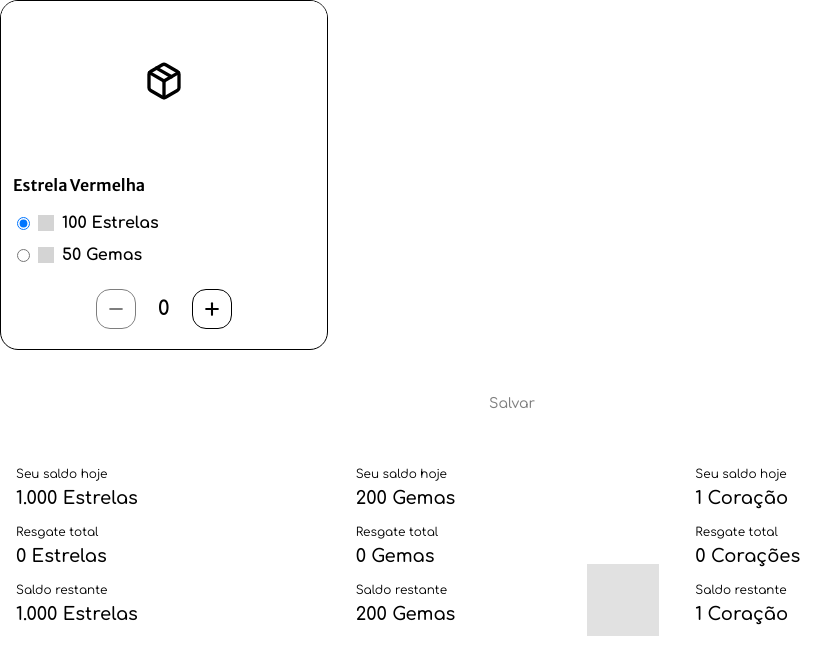
Test case: CartEditor › keeps save disabled until a qty changes and edits the selected currency
The image size is (817, 653).
Check: the button "Salvar" is disabled, box 440,382 -> 584,426
Click the button named "Aumentar valor".
click(212, 309)  # box 192,289 -> 232,329
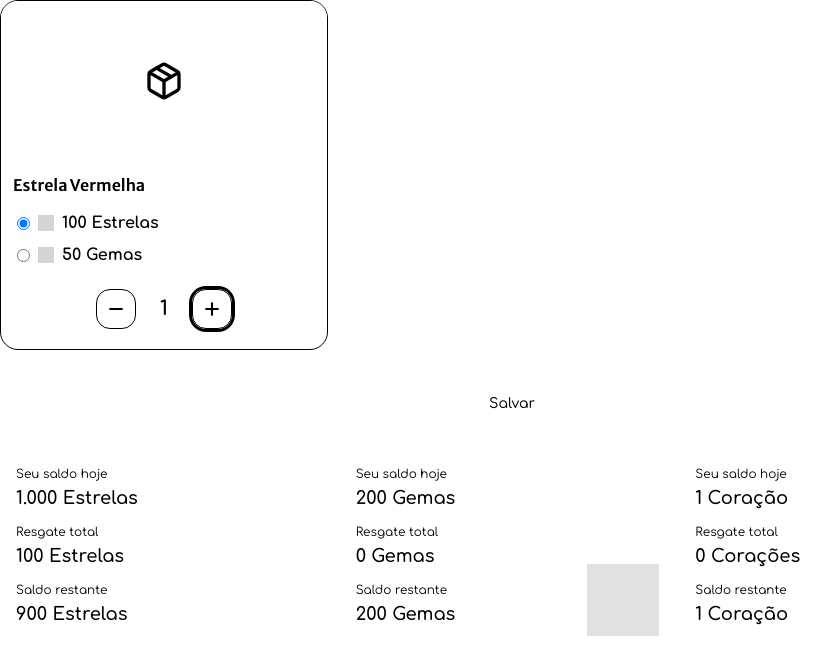
Check: the button "Salvar" is enabled, box 440,382 -> 584,426
Check: the element showing "1" is shown, box 96,289 -> 232,329
Click the radio button showing "33333333-3333-4333-8333-333333333333".
click(24, 255)  # box 17,248 -> 30,262
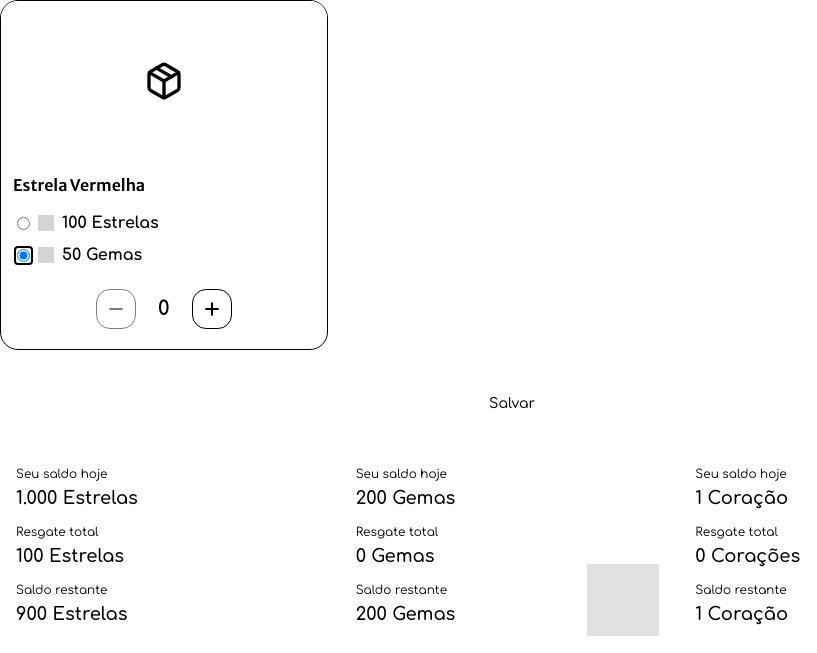
Check: the element showing "0" is shown, box 96,289 -> 232,329
Click the button named "Aumentar valor".
click(212, 309)  # box 192,289 -> 232,329
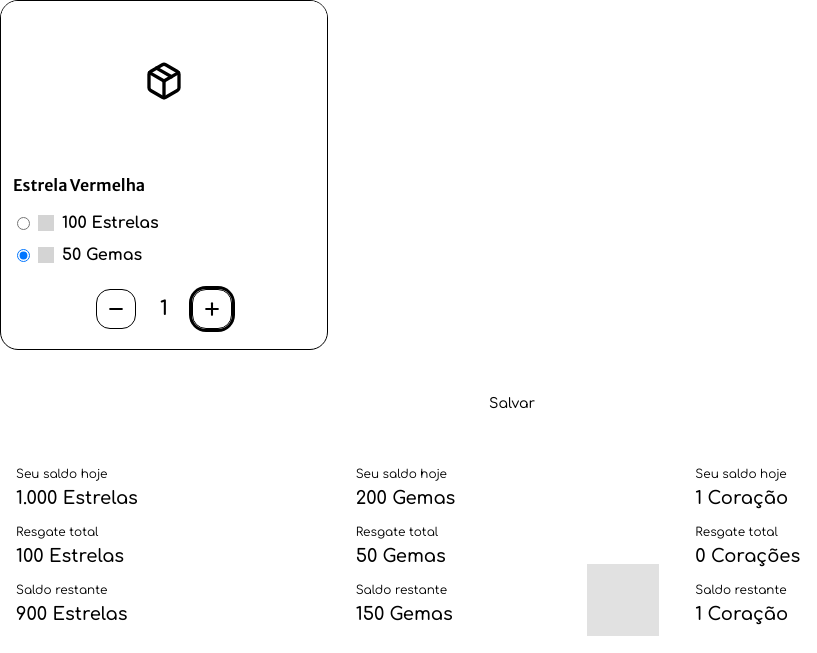
Check: the text "Seu saldo hoje" is shown 3 times, box 16,467 -> 107,481; 356,467 -> 447,481; 695,467 -> 787,481
Check: the element showing "1" is shown, box 96,289 -> 232,329
